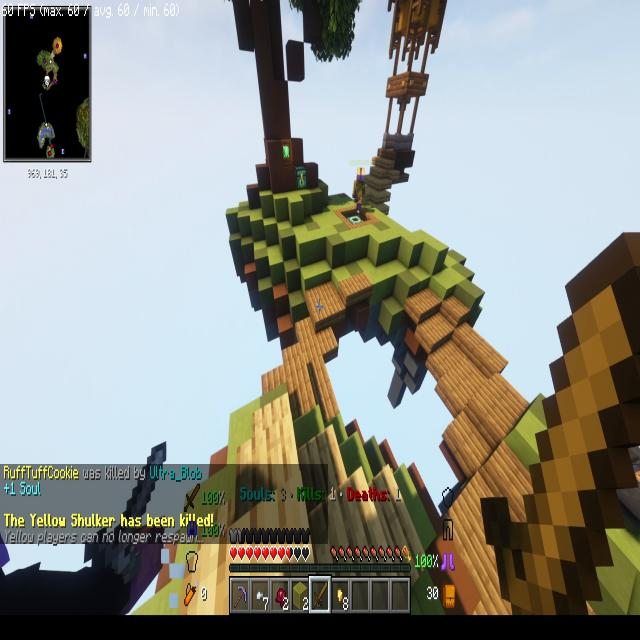Player: (0, 511, 160, 640), (350, 159, 370, 220)
